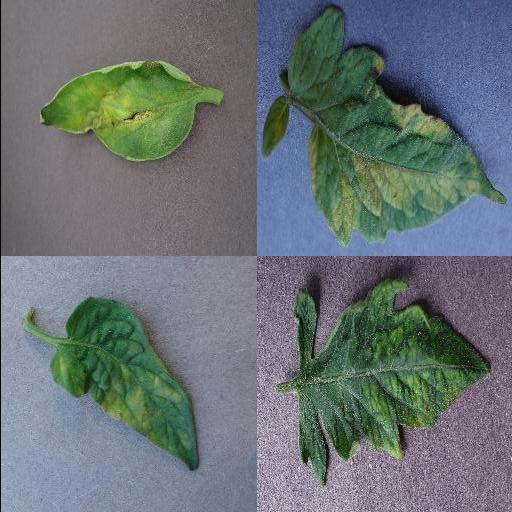Late Blight: (36, 58, 198, 164)
Leaf Mold: (288, 10, 508, 248), (51, 298, 201, 470)
Mosaic Virus: (289, 277, 495, 489)
